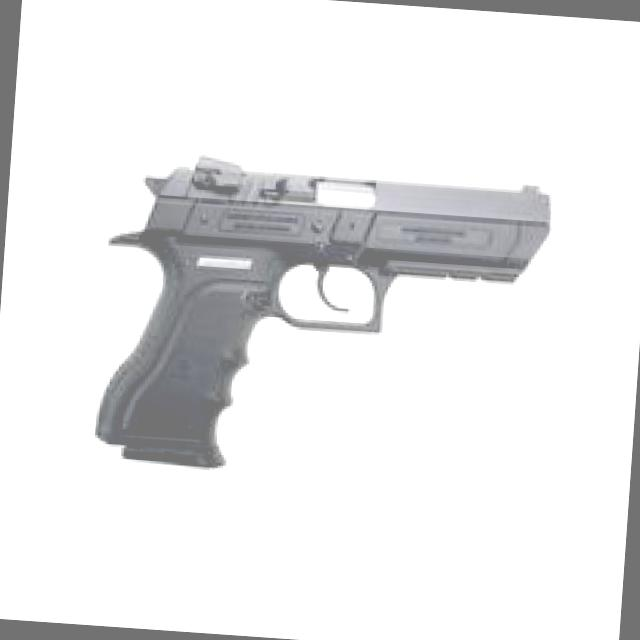semi automatic: (71, 125, 588, 534)
